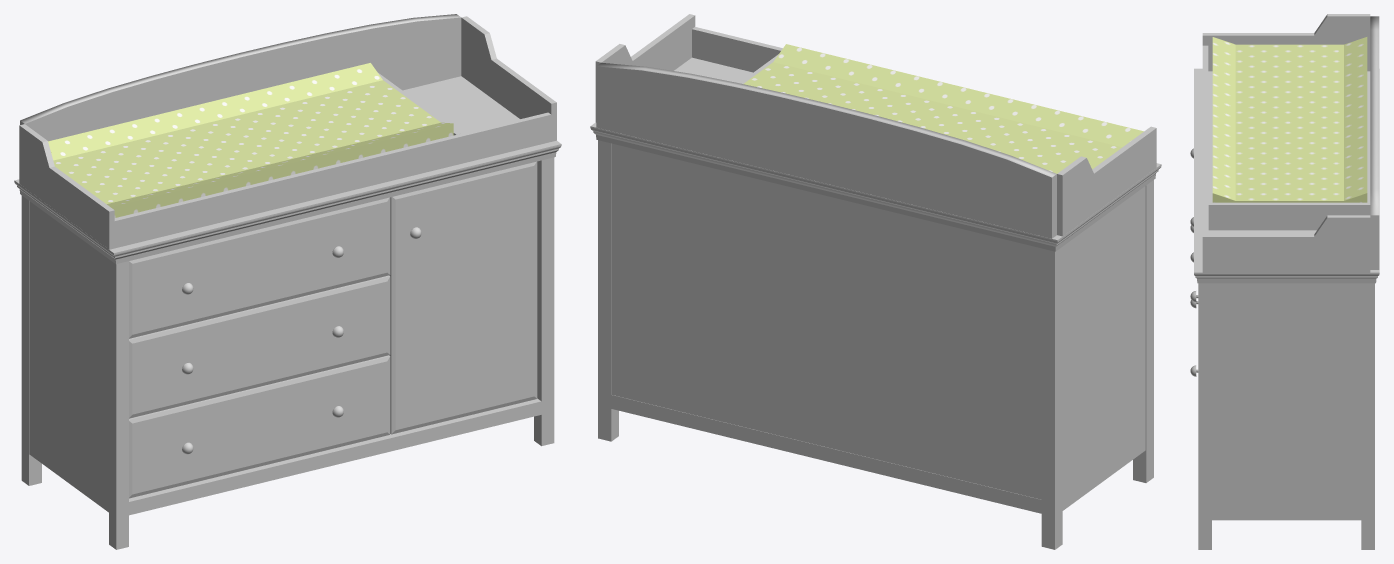
File: sh_scopia_changing_table.glb
The picture shows the model from 3 angles, left to right: view 1: azimuth 30°, elevation 25°; view 2: azimuth 150°, elevation 25°; view 3: azimuth 270°, elevation 25°; orthographic projection. The views are drawn at different scales.
Bounding box in the file's own units: 1.23 × 0.975 × 0.481.
Materials: 2 (1 with a texture image).
